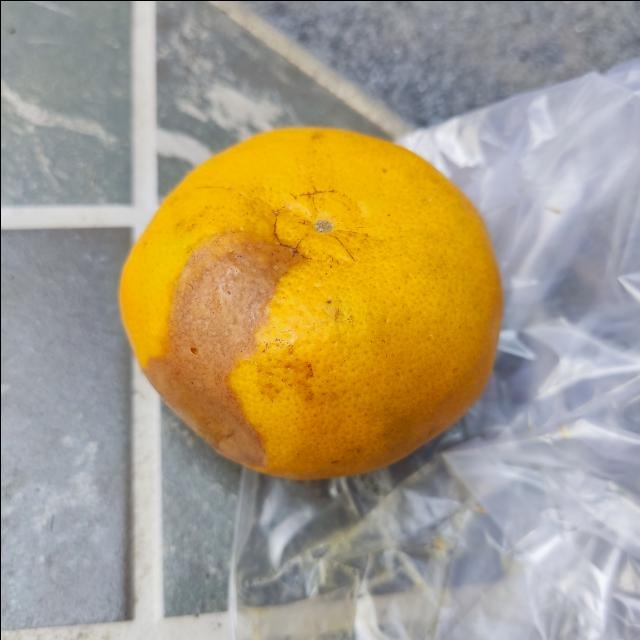agrume: (115, 122, 505, 485)
